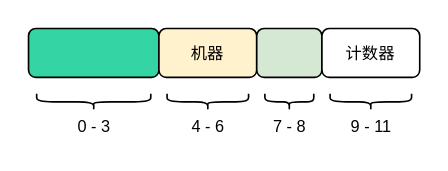
This 448x171 diagram has some shape labels left out. The centre of each missing label's shape, as x and y in pixels:
PID: point (288, 52)
时间戳: point (93, 52)
